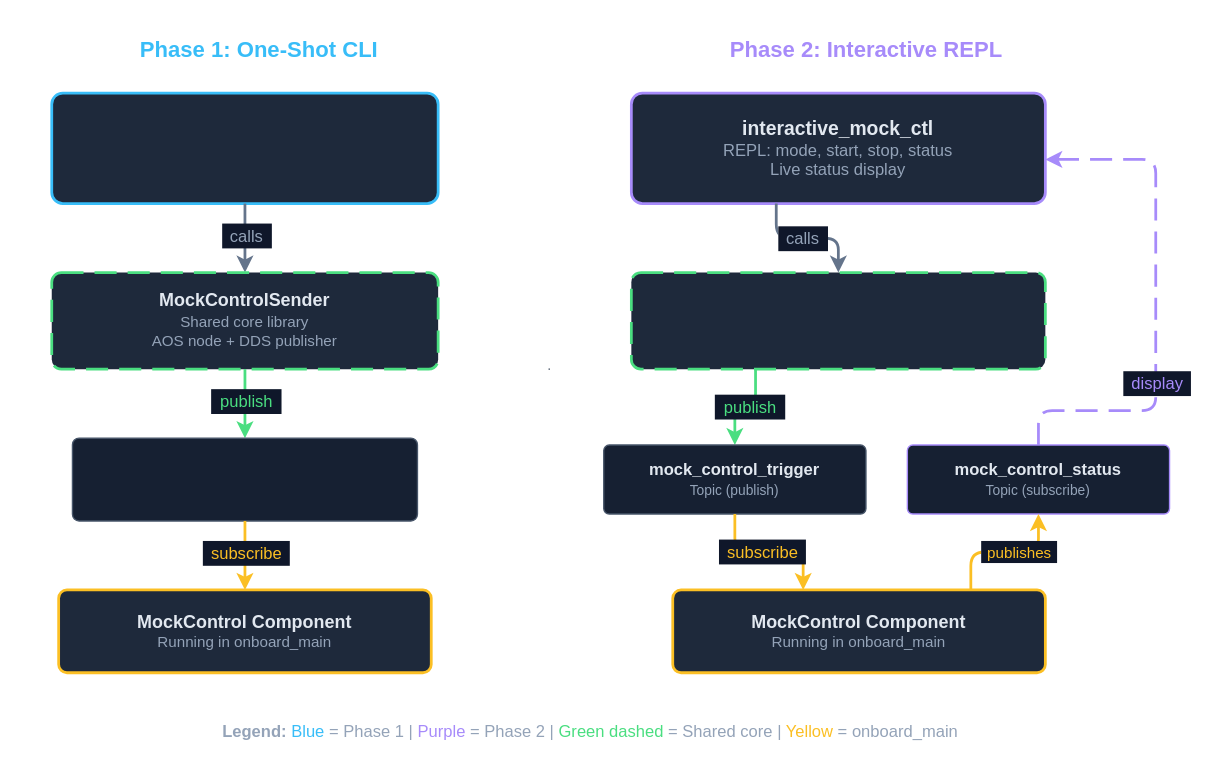
Some shapes in this 1213 by 771 pixel diagram are drawn without their labels. The shapes that lost their labels are listed below. From the top down, each one's centre as x and y in pixels, then its label:
pixel 244 147: mock_ctl CLI flags: --action, --mode --throttle, --brake, --steer
pixel 837 320: MockControlSender Same shared core (reused from Phase 1)
pixel 244 479: mock_control_trigger AOS / DDS Topic
